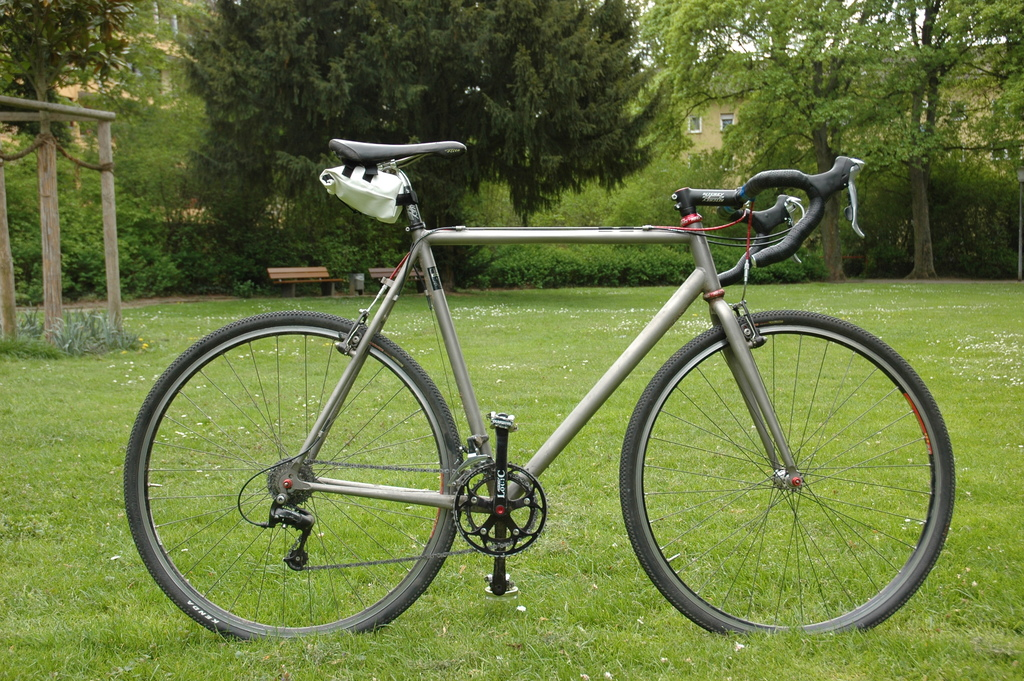Bicycle: (121, 139, 957, 633)
